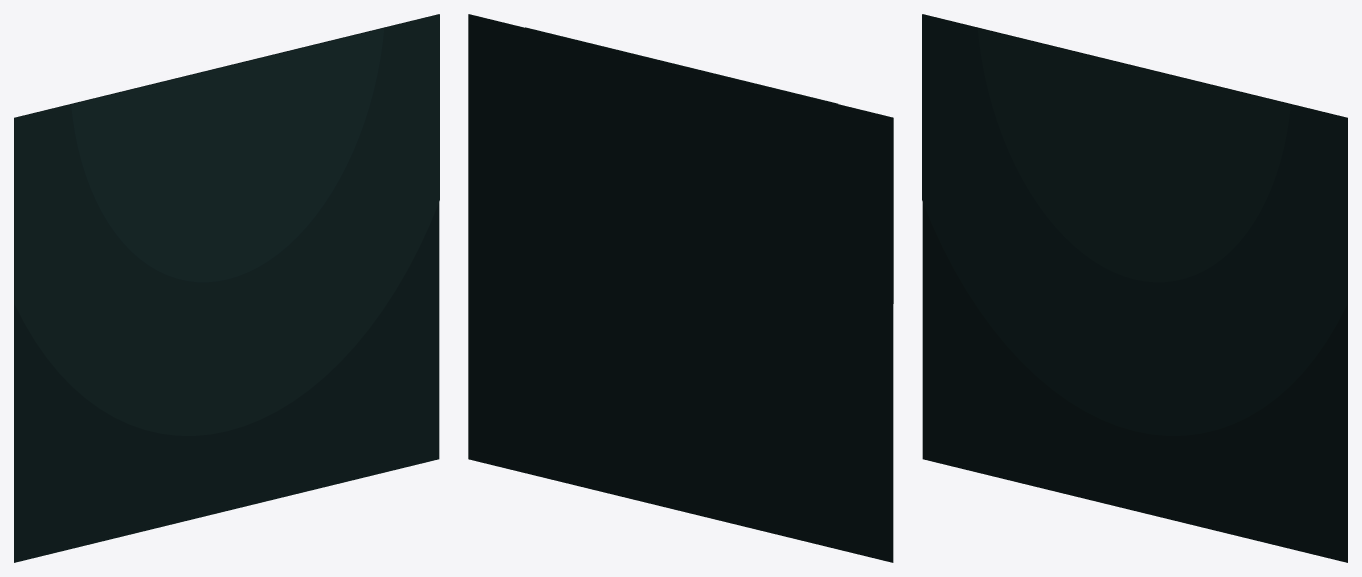
The model's file is Backdrop.gltf.
The picture shows the model from 3 angles, left to right: view 1: azimuth 30°, elevation 25°; view 2: azimuth 150°, elevation 25°; view 3: azimuth 330°, elevation 25°; orthographic projection.
Visible parts, largest first — view 1: Backdrop_baked; view 2: Backdrop_baked; view 3: Backdrop_baked.
Part boxes in pixels (left/top/right/bottom): Backdrop_baked: left=14, top=14, right=439, bottom=562; Backdrop_baked: left=468, top=14, right=893, bottom=562; Backdrop_baked: left=922, top=14, right=1347, bottom=562.
Size of the model in its own units: 1 by 1 by 0.004.
